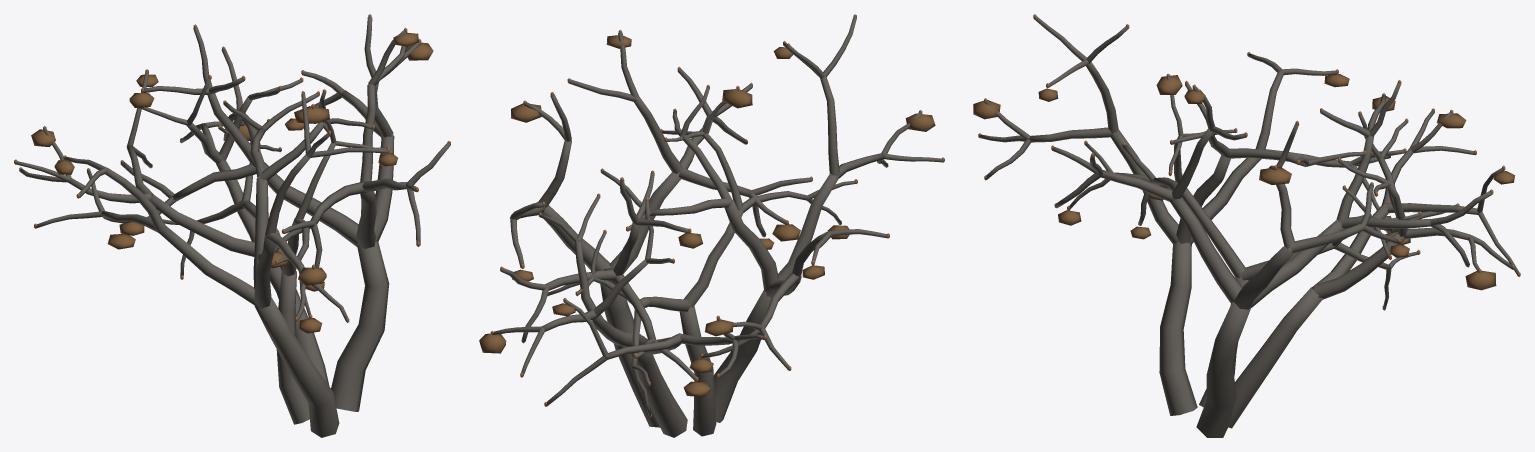
Rendered from scrub_oak_0.glb.
The picture shows the model from 3 angles, left to right: view 1: azimuth 30°, elevation 25°; view 2: azimuth 150°, elevation 25°; view 3: azimuth 270°, elevation 25°; orthographic projection.
Visible parts, largest first — view 1: ScrubOak_LimbWood_0, ScrubOak_LimbWood_3, ScrubOak_LimbWood_1, ScrubOak_LimbWood_2, ScrubOak_Dead_54_Leaves, ScrubOak_Dead_58_Leaves; view 2: ScrubOak_LimbWood_0, ScrubOak_LimbWood_3, ScrubOak_LimbWood_1, ScrubOak_LimbWood_2, ScrubOak_Dead_54_Leaves, ScrubOak_Dead_27_Leaves; view 3: ScrubOak_LimbWood_0, ScrubOak_LimbWood_3, ScrubOak_LimbWood_1, ScrubOak_LimbWood_2.
Boxes of the visible parts, x1,y1,x2,y2 form: ScrubOak_LimbWood_0: (120,17,450,411); ScrubOak_LimbWood_3: (35,92,388,437); ScrubOak_LimbWood_1: (15,71,329,385); ScrubOak_LimbWood_2: (162,107,387,424); ScrubOak_Dead_54_Leaves: (294,106,329,123); ScrubOak_Dead_58_Leaves: (298,267,326,285); ScrubOak_LimbWood_0: (500,32,811,427); ScrubOak_LimbWood_3: (601,16,943,422); ScrubOak_LimbWood_1: (492,196,763,437); ScrubOak_LimbWood_2: (547,88,855,436); ScrubOak_Dead_54_Leaves: (722,89,752,108); ScrubOak_Dead_27_Leaves: (479,333,506,353); ScrubOak_LimbWood_0: (1052,82,1492,437); ScrubOak_LimbWood_3: (978,16,1404,415); ScrubOak_LimbWood_1: (1228,110,1518,428); ScrubOak_LimbWood_2: (1068,76,1420,407).
Size of what is drawn, in the model's own units: 2.6 by 2.58 by 3.41.
